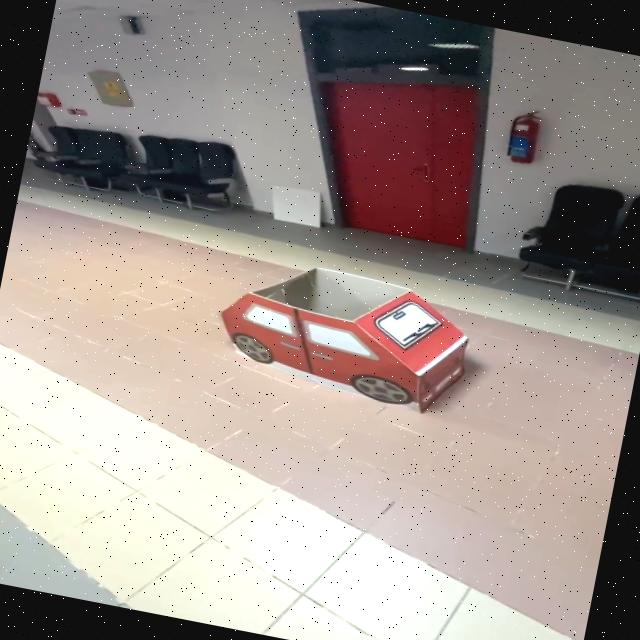red_car: (182, 227, 509, 446)
